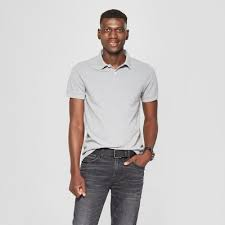S_polo shirt: (66, 51, 160, 151)
